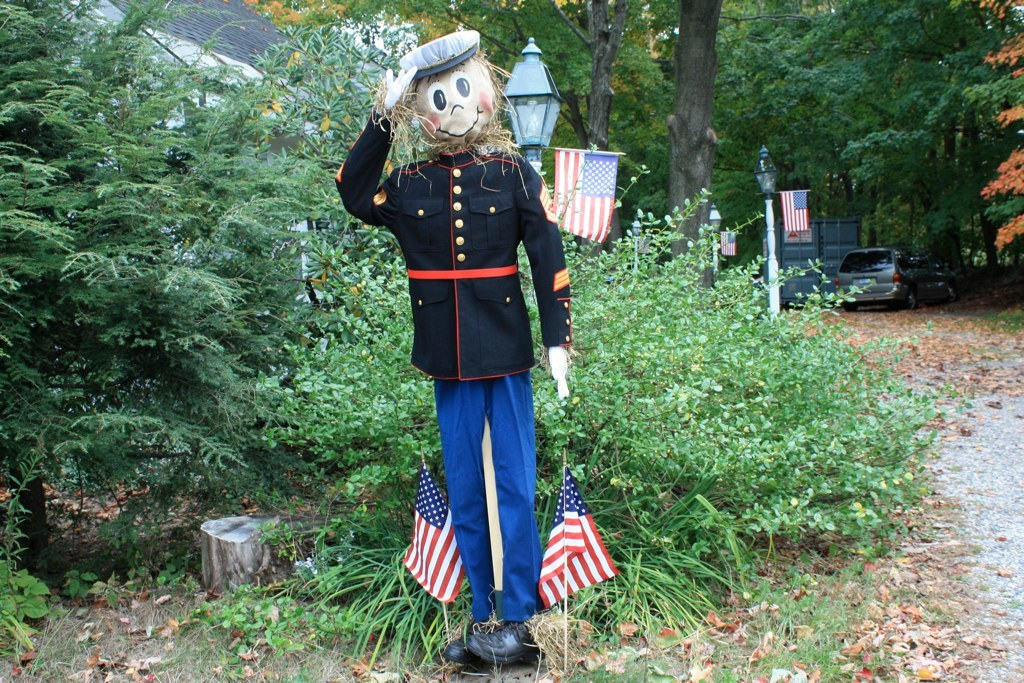Person: (335, 30, 571, 664)
